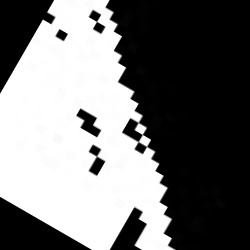spot: (1, 0, 173, 249)
